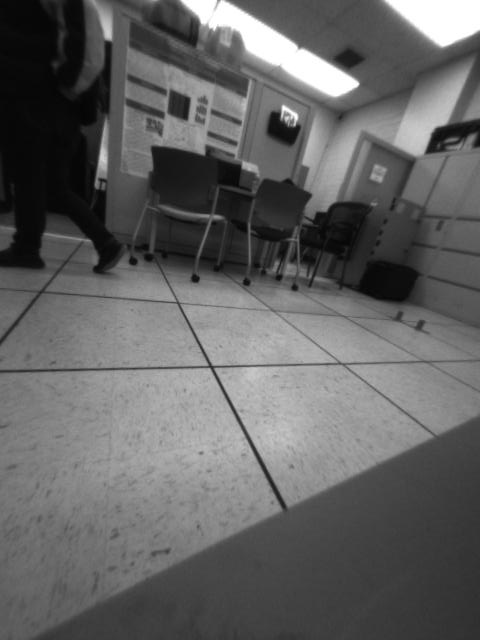X: (385, 308, 407, 328), (411, 317, 433, 336)
